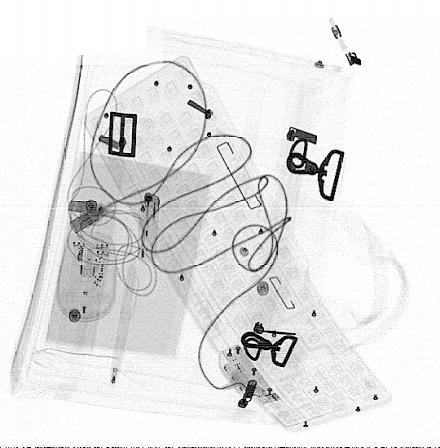Lighter: (138, 191, 160, 262)
